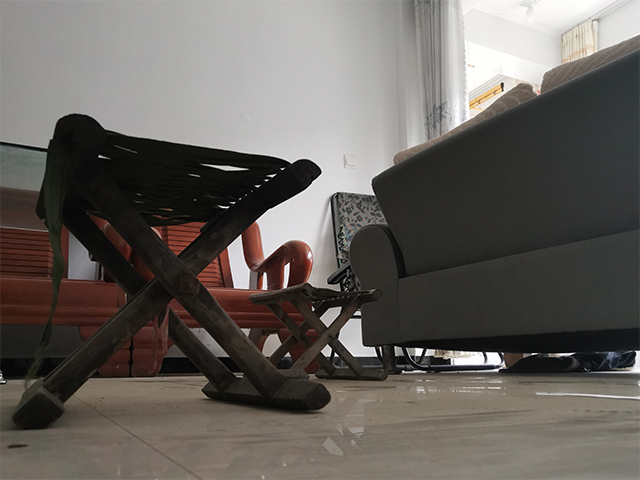curtain: (403, 3, 470, 130)
sofa: (347, 32, 640, 377)
stool: (11, 113, 334, 430), (127, 206, 328, 379), (247, 281, 392, 382)
